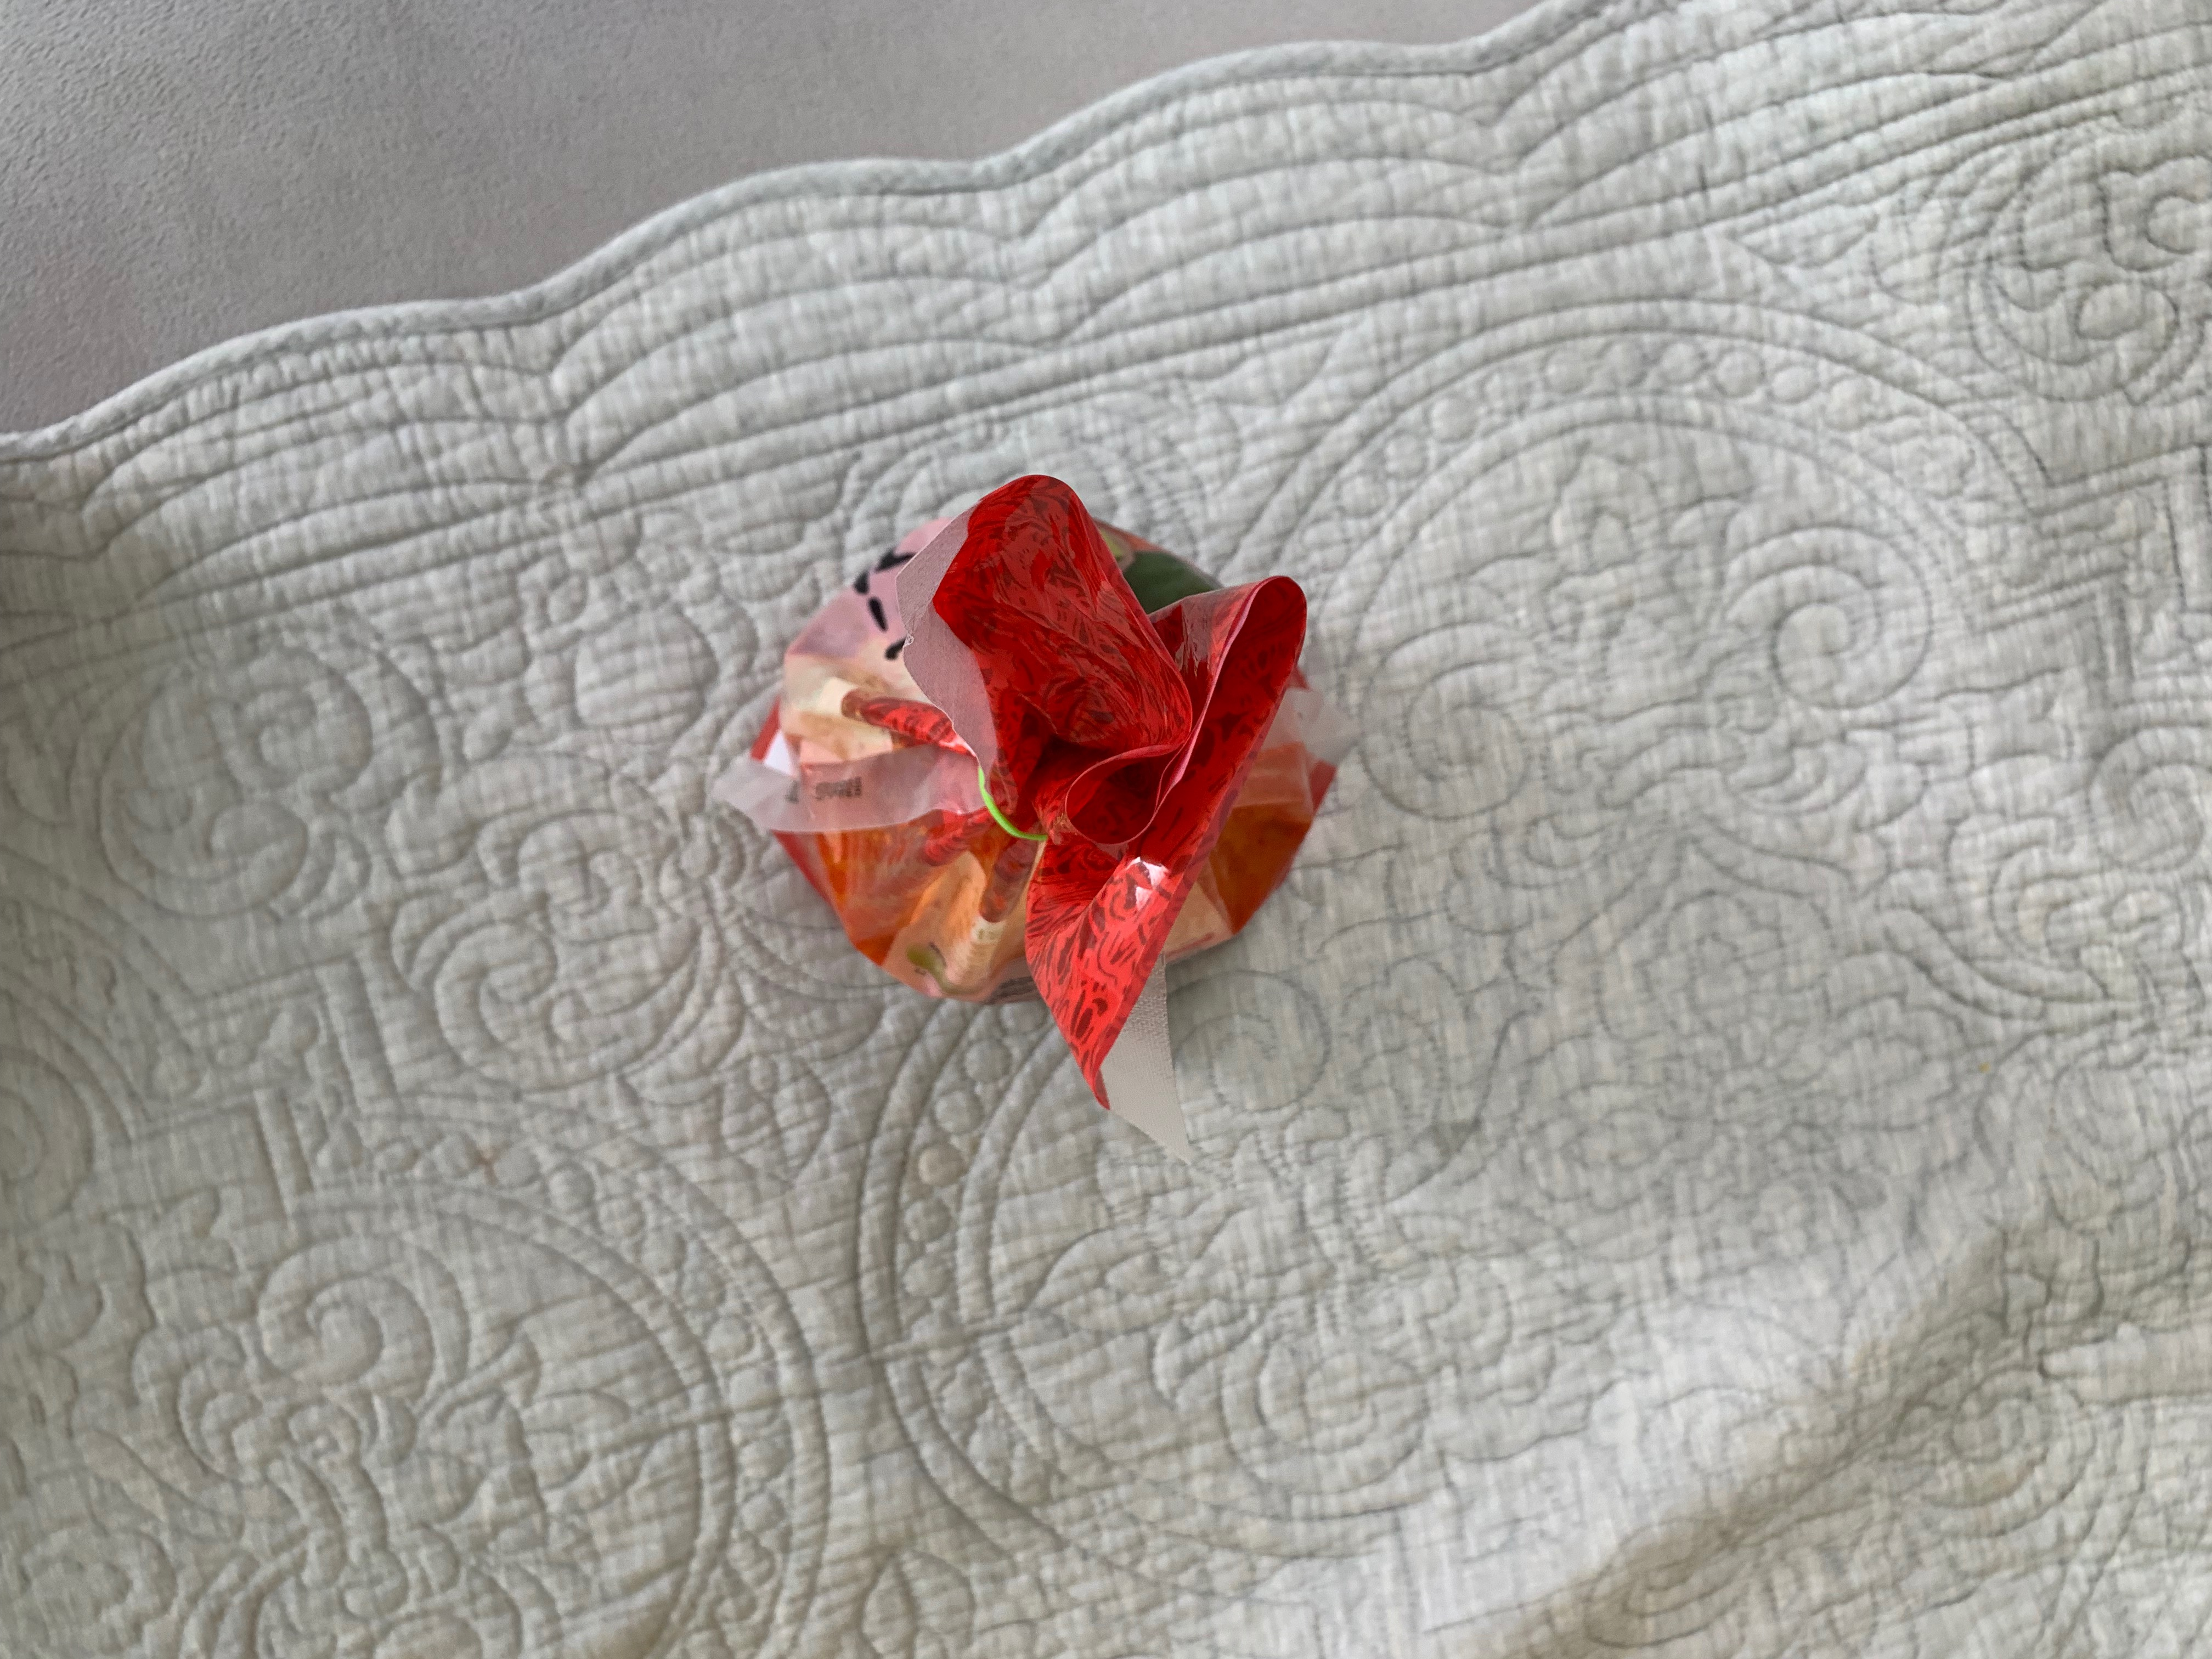kimchi: (749, 476, 1336, 1101)
